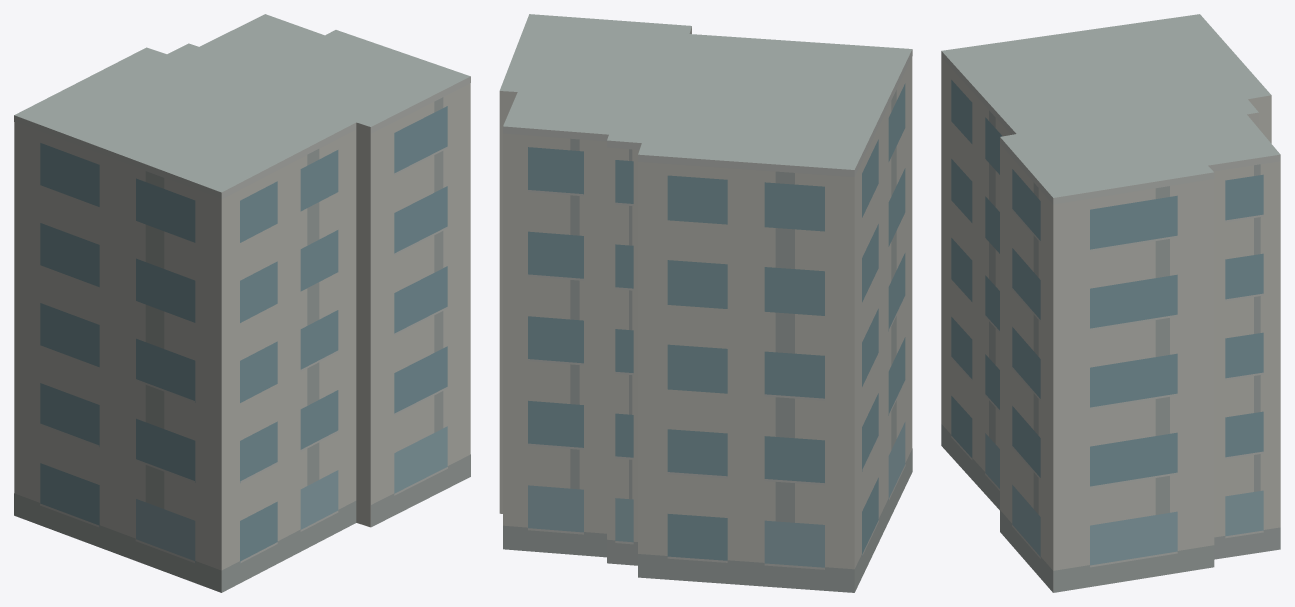
File: survey-upis-32863659.glb
The picture shows the model from 3 angles, left to right: view 1: azimuth 30°, elevation 25°; view 2: azimuth 150°, elevation 25°; view 3: azimuth 270°, elevation 25°; orthographic projection. The views are drawn at different scales.
Visible parts, largest first — view 1: survey-upis-32863659.tmp; view 2: survey-upis-32863659.tmp; view 3: survey-upis-32863659.tmp.
Boxes of the visible parts, bbox=[...] form: survey-upis-32863659.tmp: bbox=[14, 14, 470, 592]; survey-upis-32863659.tmp: bbox=[499, 14, 912, 592]; survey-upis-32863659.tmp: bbox=[941, 14, 1280, 592].
Size of the model in its own units: 14.5 by 14.5 by 11.3.
